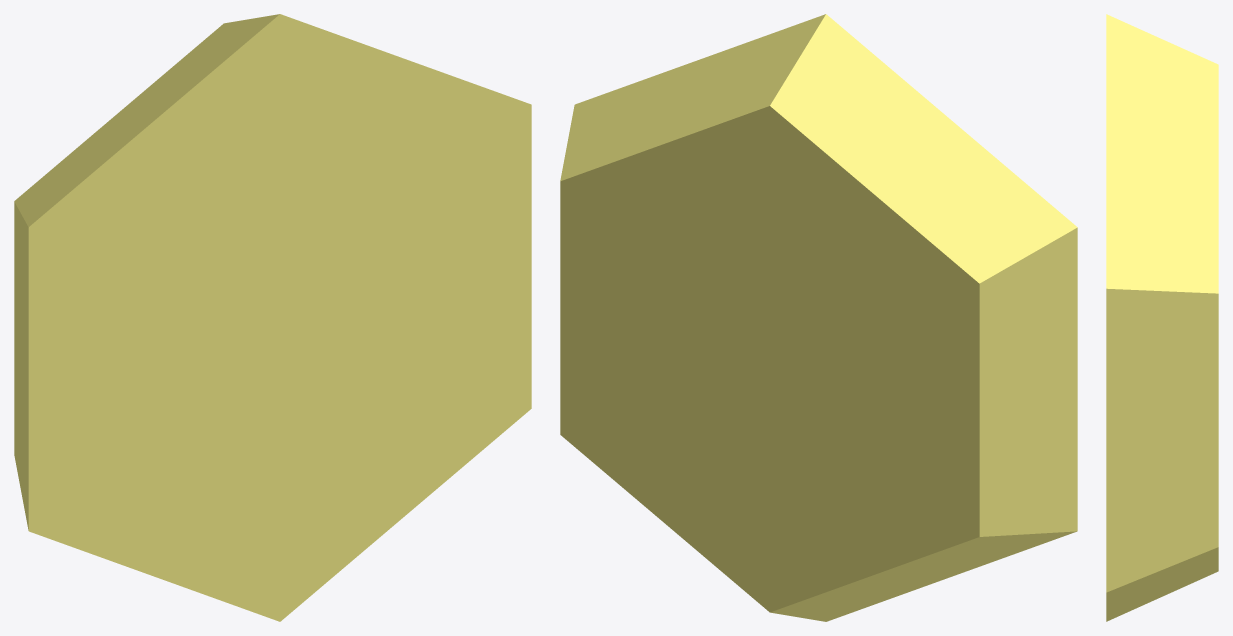
Rendered from bottom.obj.
3 views of the same model, side by side, from view 1: azimuth 30°, elevation 25°; view 2: azimuth 150°, elevation 25°; view 3: azimuth 270°, elevation 25° (orthographic).
Visible parts, largest first — view 1: glass.002; view 2: glass.002; view 3: glass.002.
Boxes of the visible parts, bbox=[...] form: glass.002: bbox=[14, 14, 531, 621]; glass.002: bbox=[560, 14, 1077, 621]; glass.002: bbox=[1106, 14, 1218, 621].
Size of the model in its own units: 0.0919 by 0.1061 by 0.0178.
